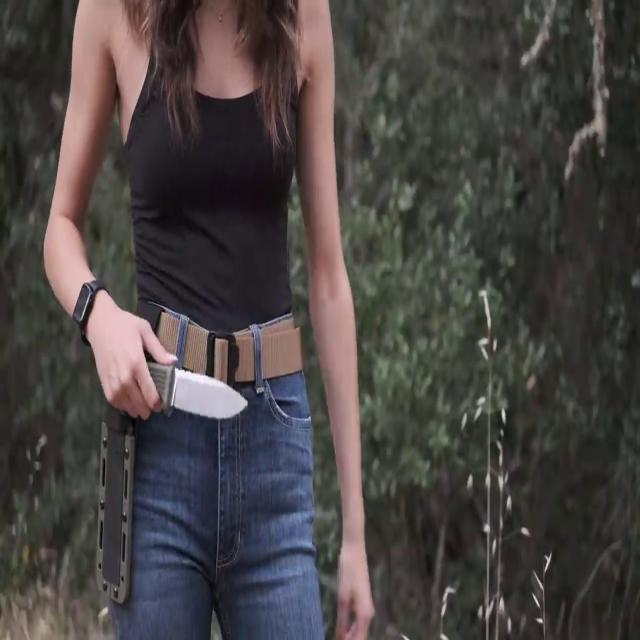Knife: (119, 343, 252, 437)
